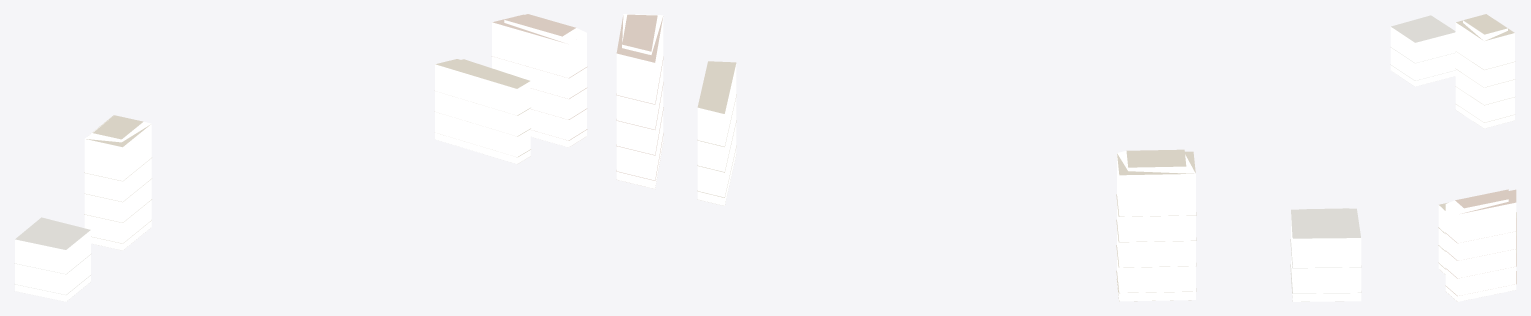
File: buildings-8_4-coarse.glb
3 renders of one model, left to right at view 1: azimuth 30°, elevation 25°; view 2: azimuth 150°, elevation 25°; view 3: azimuth 270°, elevation 25°, orthographic. The views are drawn at different scales.
Parts seen in each view (by area): view 1: block_8_4_residential, block_8_4_roof; view 2: block_8_4_residential, block_8_4_roof; view 3: block_8_4_residential, block_8_4_roof.
Part boxes in pixels (bbox=[...]): block_8_4_residential: bbox=[15, 20, 586, 301]; block_8_4_roof: bbox=[14, 14, 587, 300]; block_8_4_residential: bbox=[616, 14, 1361, 301]; block_8_4_roof: bbox=[616, 14, 1361, 301]; block_8_4_residential: bbox=[1390, 20, 1516, 301]; block_8_4_roof: bbox=[1390, 14, 1516, 301].
Size of the model in its own units: 237 by 41.21 by 52.25.
